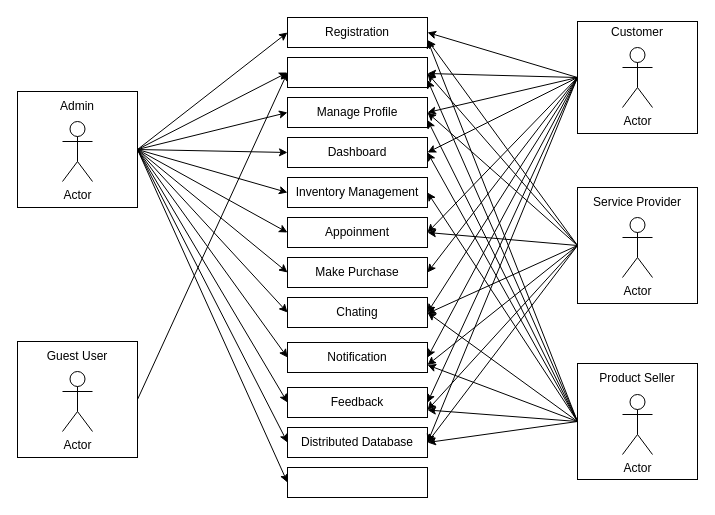
The diagram is 715 pixels wide and 515 high, and some of its shapes have lost their labels. Each missing label, with the centre of its shape:
"Database Backup" goes at point 357,482.
"Homepage" goes at point 357,72.
